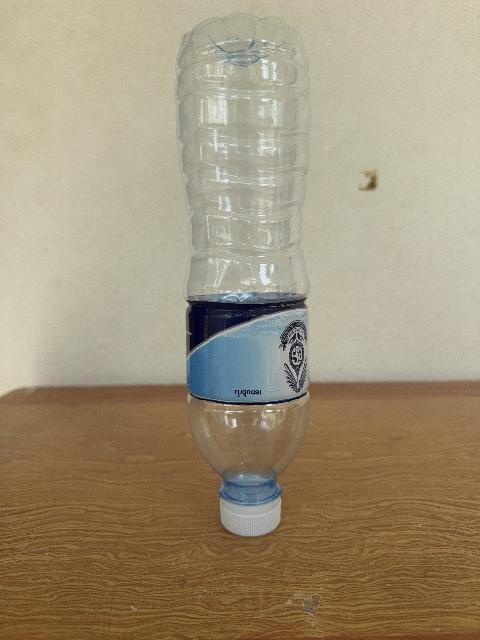bottle: (175, 14, 308, 535)
